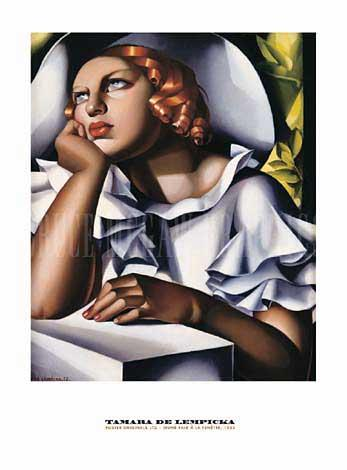person: (31, 43, 314, 380)
